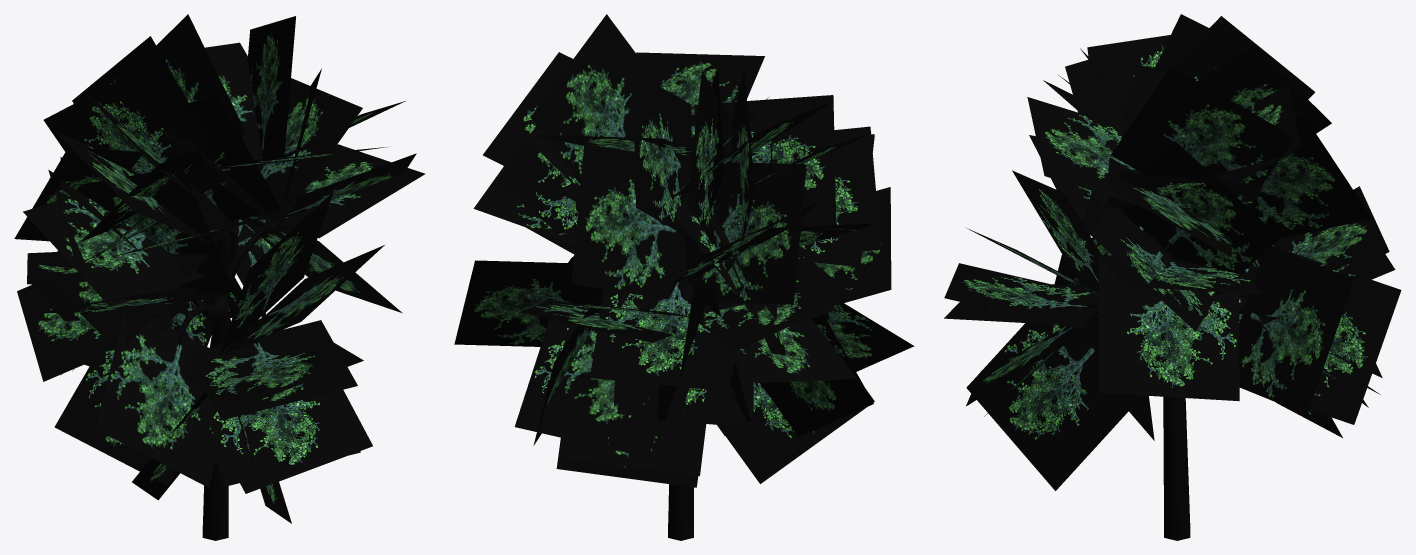
Rendered from tree71.glb.
3 views of the same model, side by side, from view 1: azimuth 30°, elevation 25°; view 2: azimuth 150°, elevation 25°; view 3: azimuth 270°, elevation 25° (orthographic).
Bounding box in the file's own units: 5.57 × 7 × 5.74.
2 materials, 1 textured.
